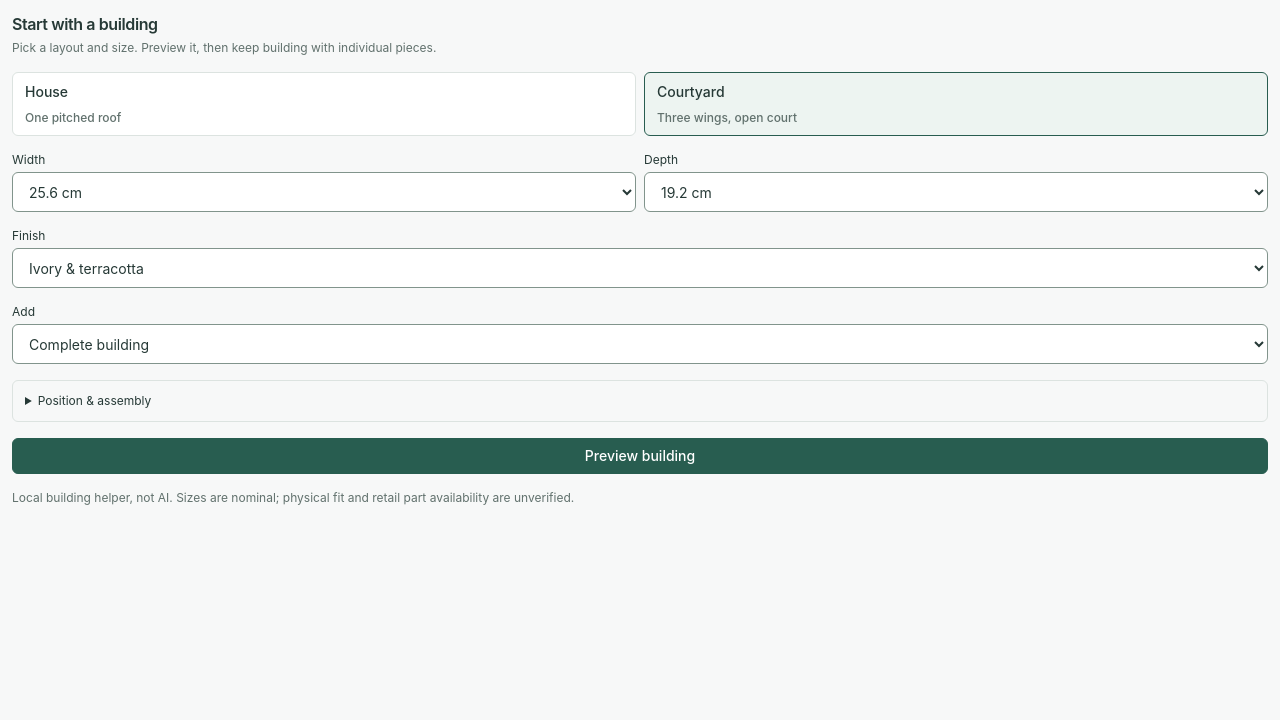
it: Local building helper › reports a missing roof support without publishing a preview or changing the scene
Select "Roof only" in the dropdown named "Building section": (640, 344) [12,324,1268,364]
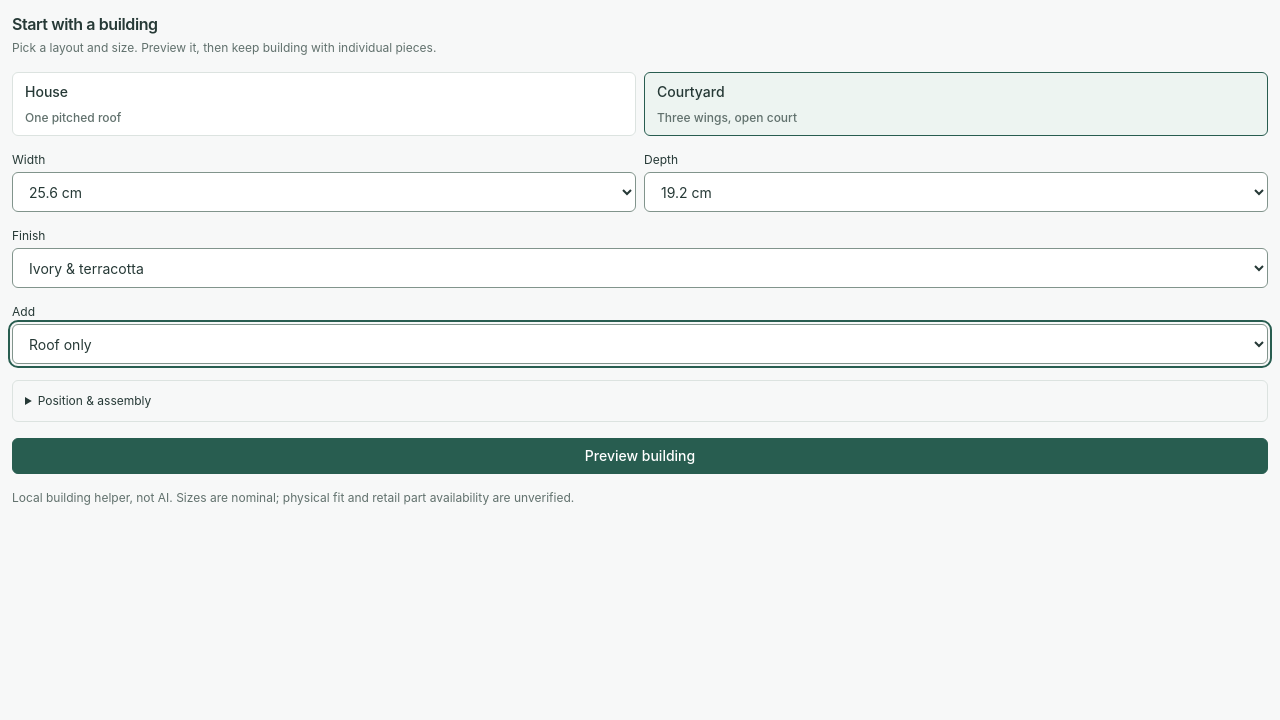
Click the button "Preview building": (640, 456) [12,438,1268,474]
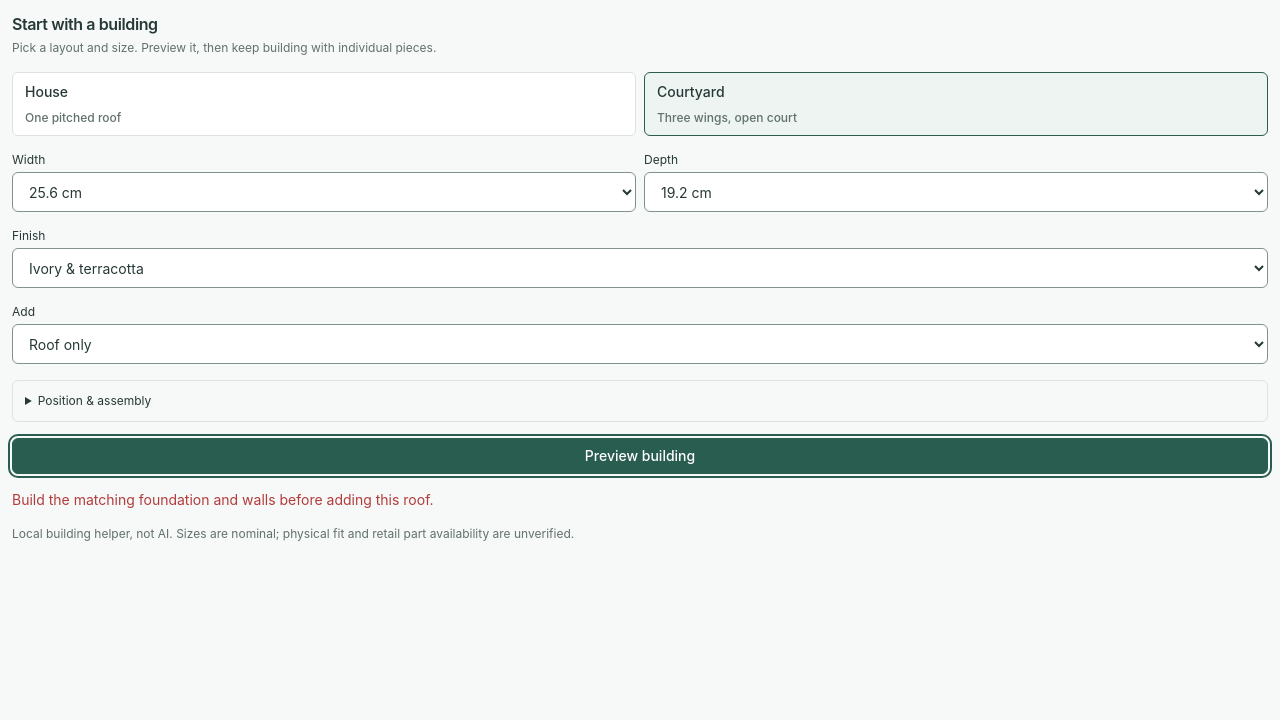
Check: the message shows "Build the matching foundation and walls", box [12,491,434,508]
